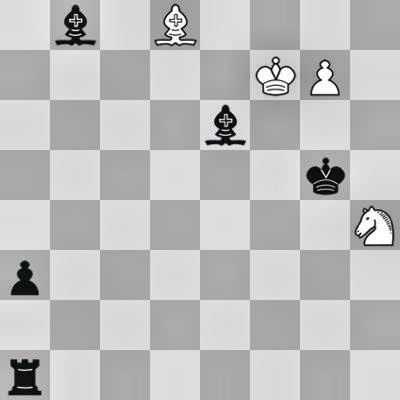black-bishop: (50, 0, 100, 50), (200, 100, 250, 150)
black-king: (300, 150, 350, 200)
black-pawn: (0, 250, 50, 300)
black-rook: (0, 350, 50, 400)
white-bishop: (150, 0, 200, 50)
white-king: (250, 50, 300, 100)
white-knight: (350, 200, 400, 250)
white-pawn: (300, 50, 350, 100)
